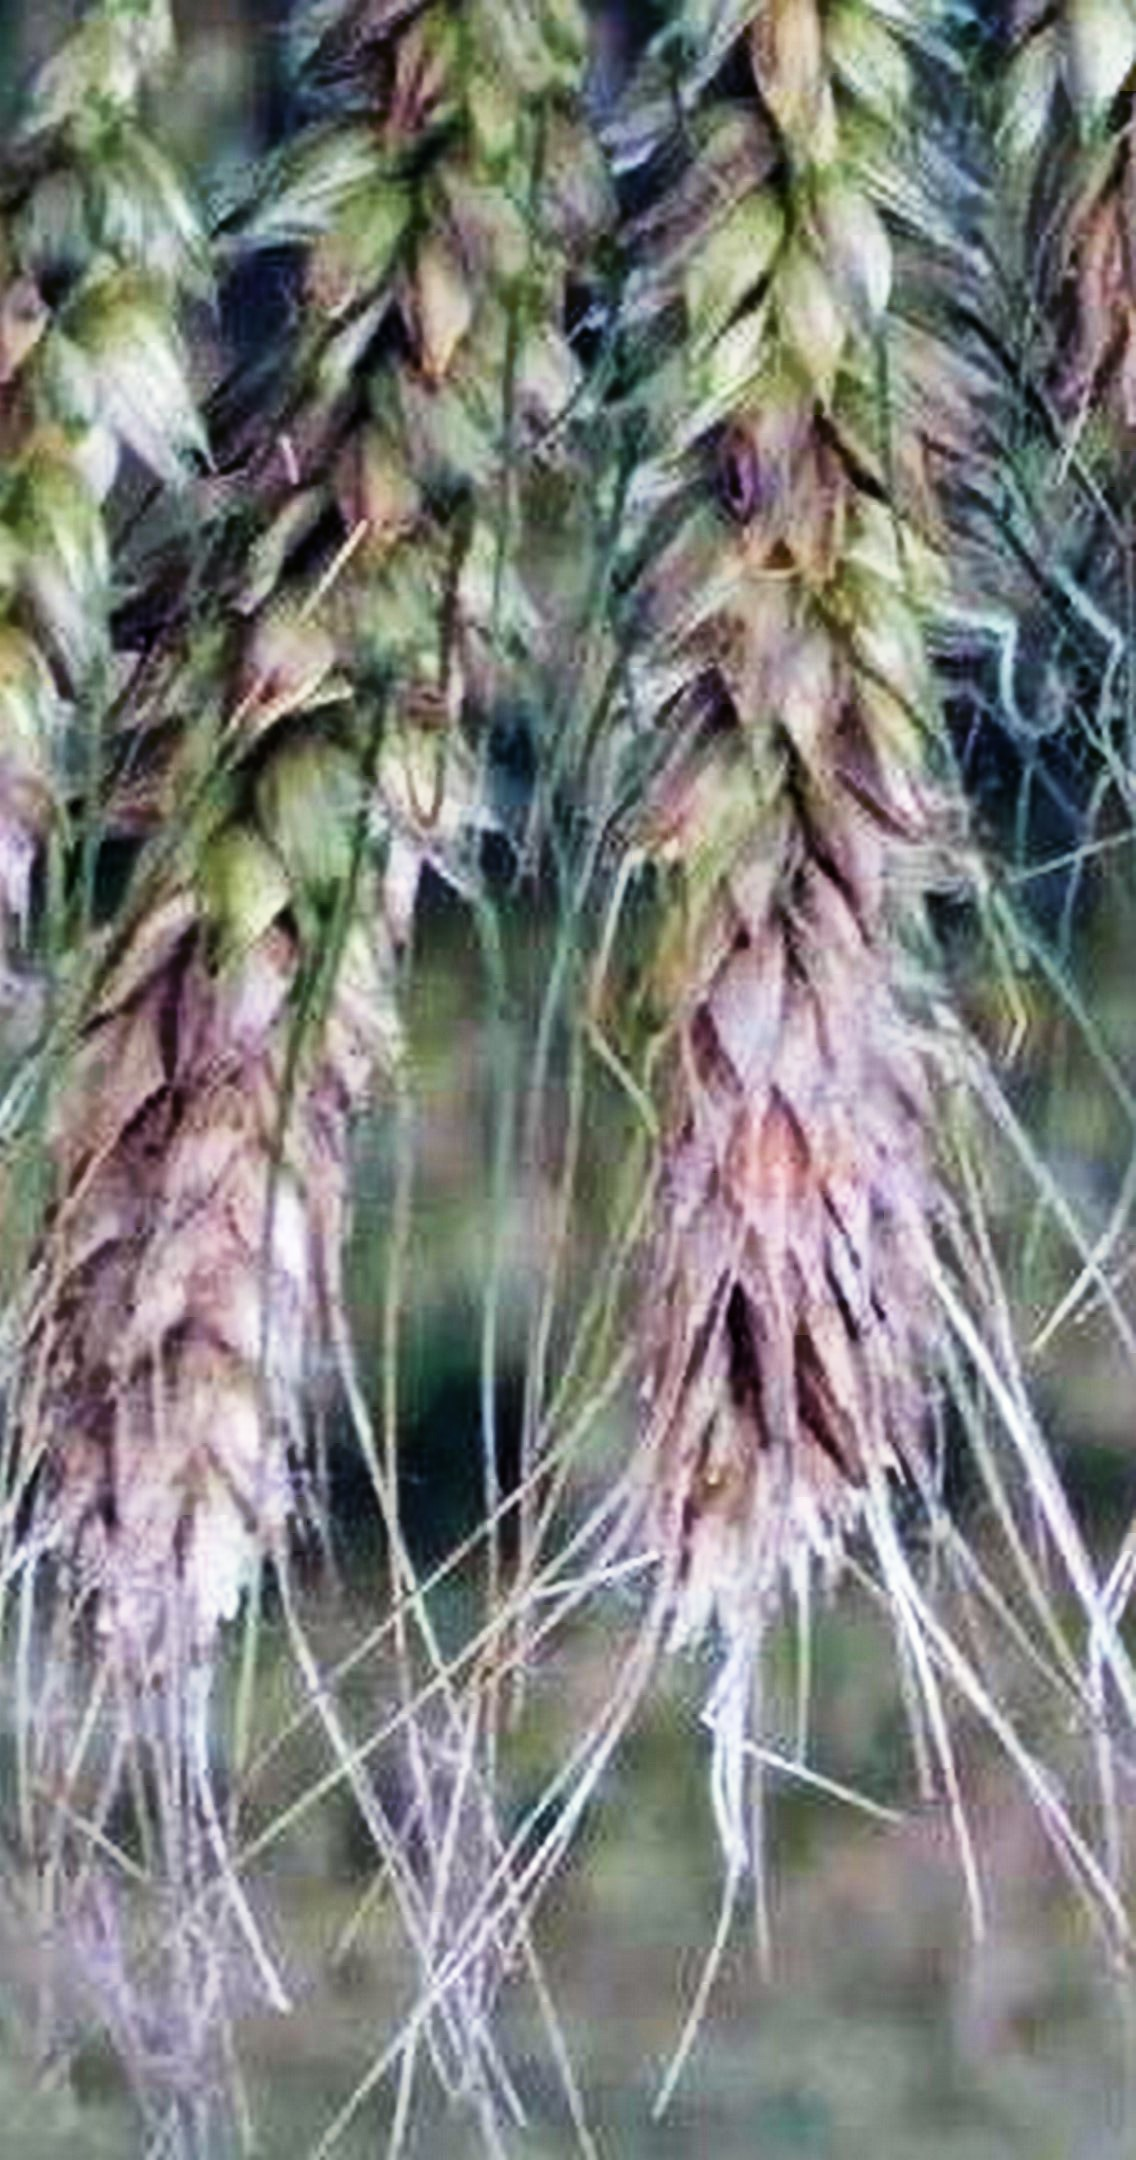Wheat scab: (44, 1, 597, 1639), (609, 36, 1027, 1610)
